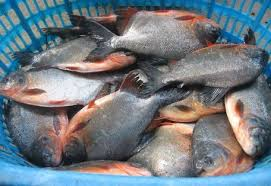Ikan Bawal: (60, 85, 184, 170), (139, 43, 270, 101), (79, 8, 230, 57), (1, 66, 110, 109)
